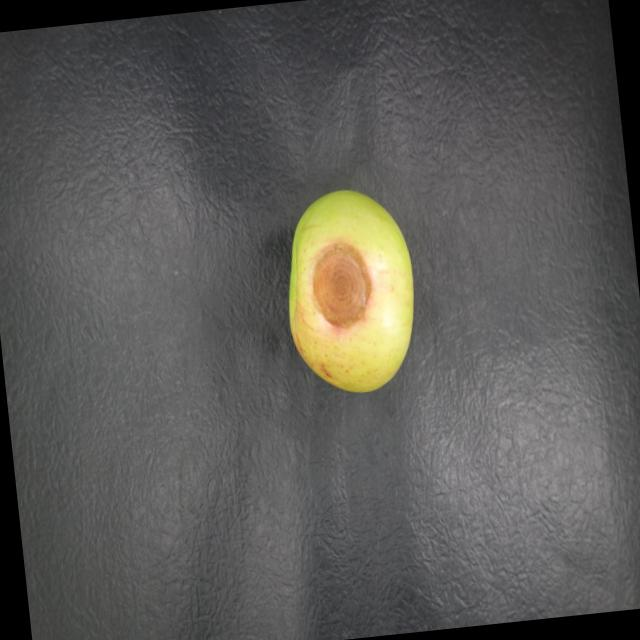rotten: (272, 178, 433, 408)
